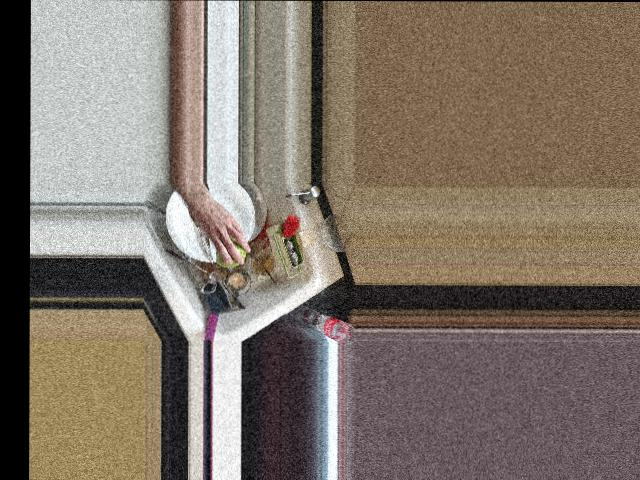apple: (213, 235, 246, 267)
